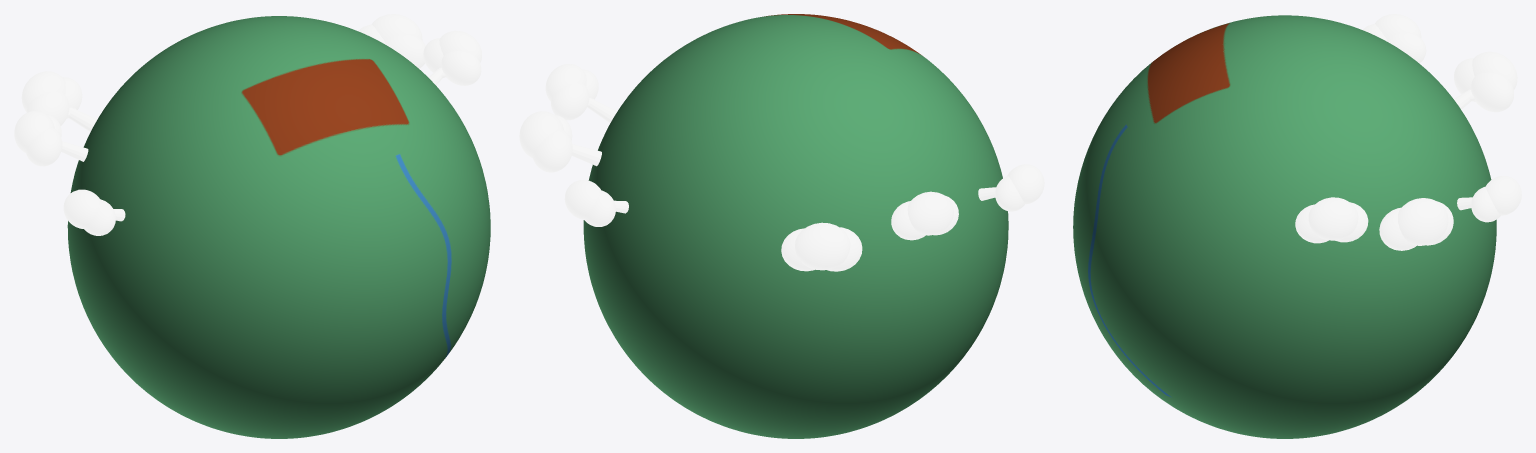
Rendered from farm-planet.glb.
3 renders of one model, left to right at view 1: azimuth 30°, elevation 25°; view 2: azimuth 150°, elevation 25°; view 3: azimuth 270°, elevation 25°, orthographic.
Parts seen in each view (by area): view 1: Planet_Ground, Tree_04_Crown_01, Tree_03_Crown_03, Tree_01_Crown_02, Tree_01_Crown_03, Tree_05_Crown_03, Tree_02_Crown_03, Tree_05_Crown_02, Tree_02_Crown_01, Tree_04_Crown_03, Tree_03_Crown_02, Tree_04_Crown_02; view 2: Planet_Ground, Tree_05_Crown_03, Tree_01_Crown_03, Tree_02_Crown_02, Tree_02_Crown_03, Tree_04_Crown_02, Tree_06_Crown_03, Tree_03_Crown_03, Tree_04_Crown_03, Tree_06_Crown_02, Tree_03_Crown_01, Tree_01_Crown_01 (+2 smaller); view 3: Planet_Ground, Tree_02_Crown_03, Tree_04_Crown_03, Tree_05_Crown_01, Tree_06_Crown_03, Tree_05_Crown_03, Tree_02_Crown_01, Tree_01_Crown_03, Tree_01_Crown_01, Tree_06_Crown_01, Tree_05_Crown_02, Tree_04_Crown_01 (+1 smaller).
Part boxes in pixels (box(x1,y1,x2,y2)): Planet_Ground: box(67, 16, 490, 438); Tree_04_Crown_01: box(441, 51, 481, 85); Tree_03_Crown_03: box(63, 189, 100, 228); Tree_01_Crown_02: box(26, 127, 62, 166); Tree_01_Crown_03: box(14, 110, 54, 152); Tree_05_Crown_03: box(21, 71, 66, 111); Tree_02_Crown_03: box(371, 14, 422, 41); Tree_05_Crown_02: box(26, 91, 69, 125); Tree_02_Crown_01: box(384, 34, 425, 68); Tree_04_Crown_03: box(439, 30, 481, 62); Tree_03_Crown_02: box(84, 199, 115, 235); Tree_04_Crown_02: box(423, 38, 443, 72); Planet_Ground: box(583, 14, 1008, 438); Tree_05_Crown_03: box(795, 222, 850, 270); Tree_01_Crown_03: box(907, 191, 953, 235); Tree_02_Crown_02: box(532, 129, 572, 172); Tree_02_Crown_03: box(519, 111, 564, 158); Tree_04_Crown_02: box(551, 83, 589, 120); Tree_06_Crown_03: box(564, 180, 601, 219); Tree_03_Crown_03: box(1008, 164, 1044, 204); Tree_04_Crown_03: box(545, 64, 586, 101); Tree_06_Crown_02: box(584, 190, 615, 226); Tree_03_Crown_01: box(995, 176, 1024, 211); Tree_01_Crown_01: box(891, 201, 925, 240); Planet_Ground: box(1073, 15, 1496, 438); Tree_02_Crown_03: box(1398, 198, 1448, 245); Tree_04_Crown_03: box(1308, 197, 1358, 240); Tree_05_Crown_01: box(1471, 72, 1513, 112); Tree_06_Crown_03: box(1485, 176, 1521, 215); Tree_05_Crown_03: box(1472, 51, 1517, 89); Tree_02_Crown_01: box(1379, 207, 1416, 250); Tree_01_Crown_03: box(1375, 14, 1421, 39); Tree_01_Crown_01: box(1386, 32, 1426, 63); Tree_06_Crown_01: box(1471, 186, 1500, 222); Tree_05_Crown_02: box(1454, 58, 1475, 101); Tree_04_Crown_01: box(1295, 204, 1328, 243).
Bounding box in the file's own units: 6.14 × 5 × 5.3.
Materials: 5 (1 with a texture image).
